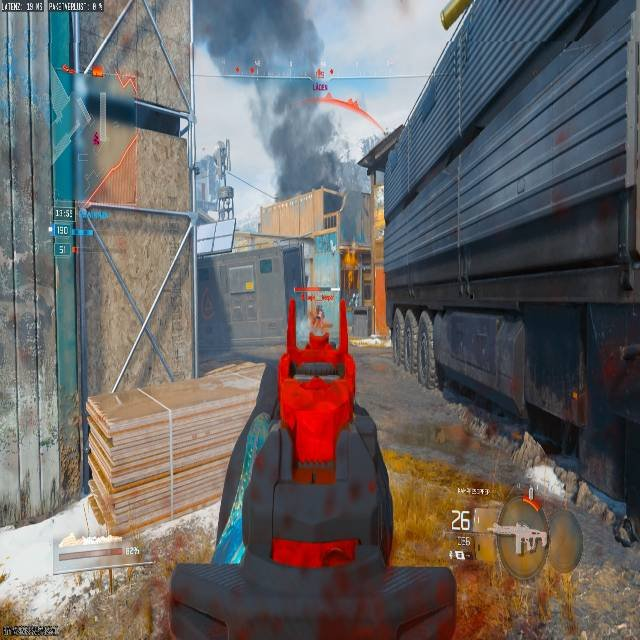player: (306, 300, 333, 346), (311, 304, 324, 334)
